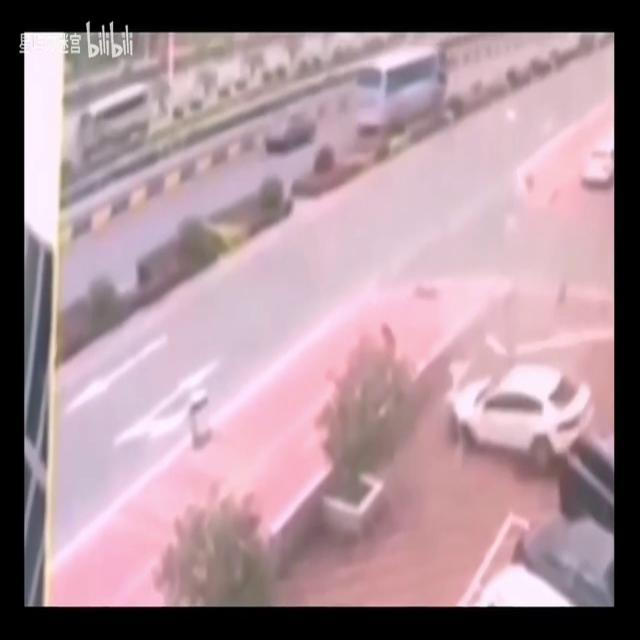single accident: (231, 255, 615, 529)
